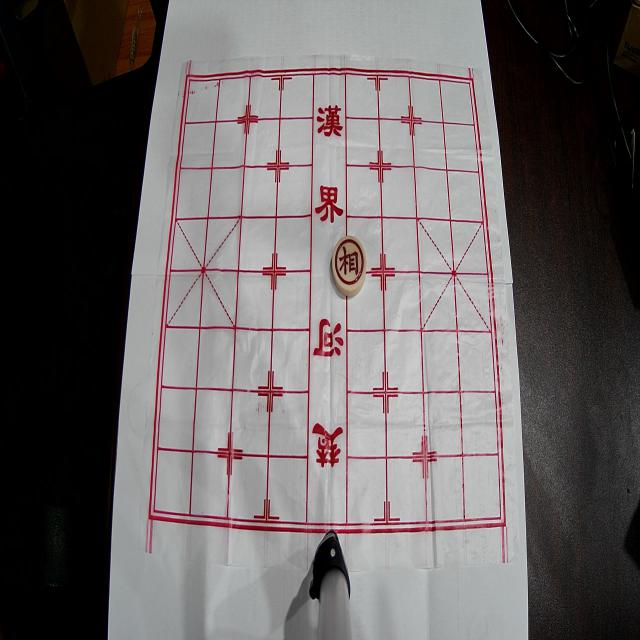red-elephant: (332, 235, 366, 296)
